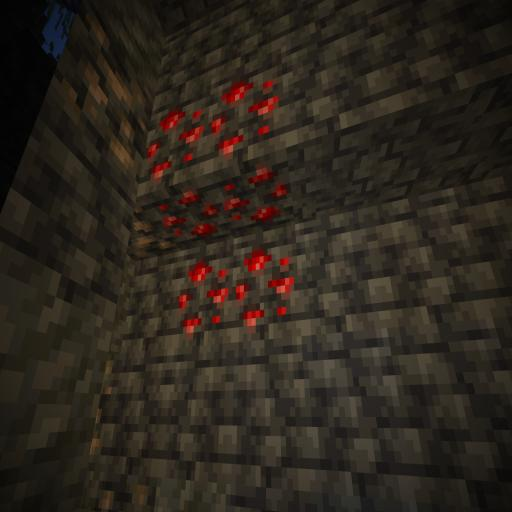iron ore: (70, 4, 146, 277), (89, 333, 146, 512)
redstone ore: (147, 70, 297, 344)
